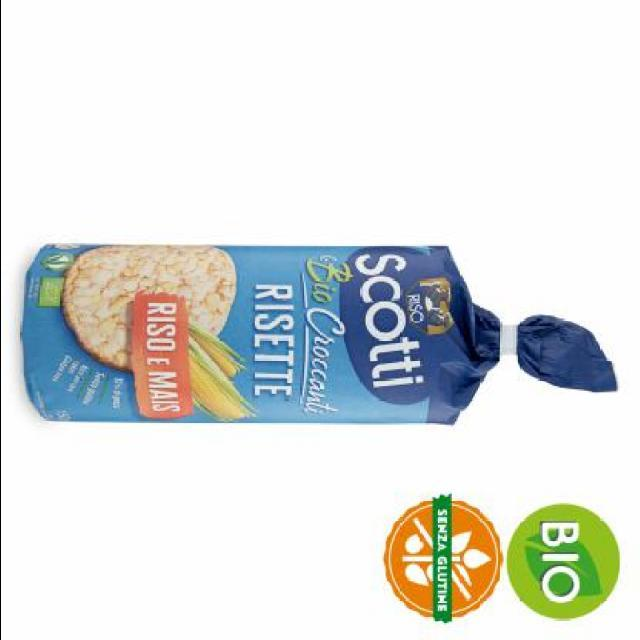Gallette di riso: (19, 242, 621, 429)
